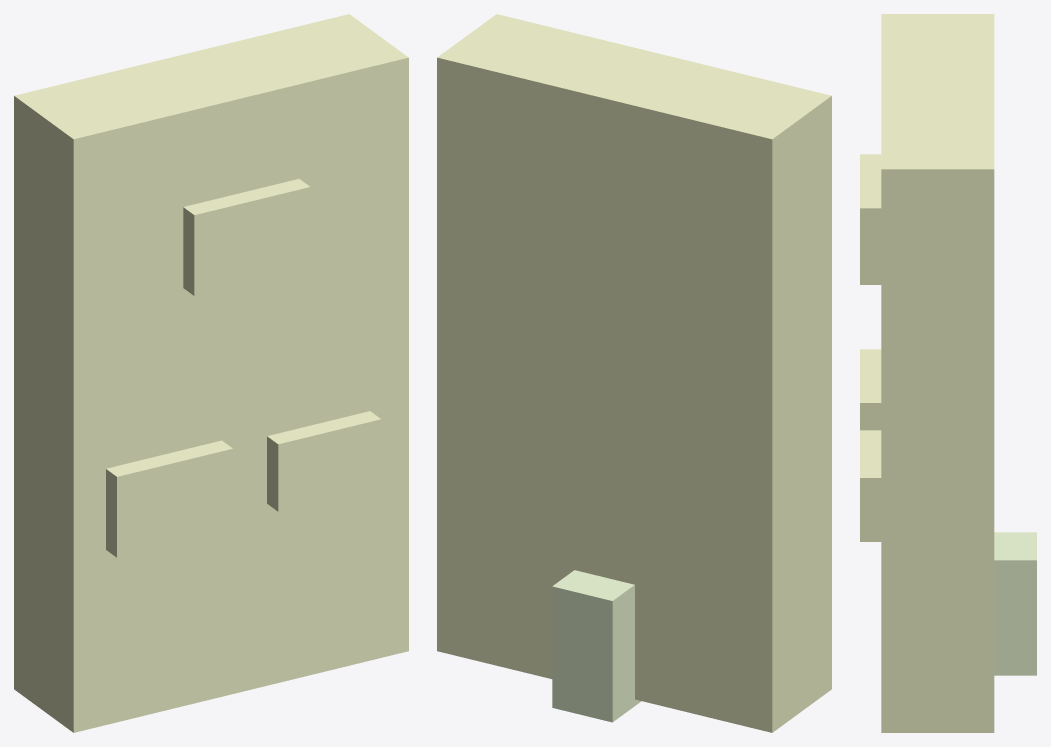
File: signal_tram_priority_diamond_3_aspect.glb
3 renders of one model, left to right at view 1: azimuth 30°, elevation 25°; view 2: azimuth 150°, elevation 25°; view 3: azimuth 270°, elevation 25°, orthographic. The views are drawn at different scales.
Parts seen in each view (by area): view 1: housing, display_tram_stop, display_tram_go, display_tram_call; view 2: housing, bracket; view 3: housing, bracket, display_tram_stop, display_tram_call, display_tram_go.
Boxes of the visible parts, x1,y1,x2,y2 form: housing: [14, 14, 408, 732]; display_tram_stop: [183, 179, 310, 295]; display_tram_go: [106, 440, 232, 557]; display_tram_call: [267, 411, 381, 511]; housing: [437, 14, 831, 732]; bracket: [552, 570, 641, 722]; housing: [881, 14, 994, 732]; bracket: [994, 532, 1036, 675]; display_tram_stop: [860, 154, 881, 284]; display_tram_call: [860, 430, 881, 541]; display_tram_go: [860, 349, 881, 430].
Size of the model in its own units: 0.52 by 0.89 by 0.25.
